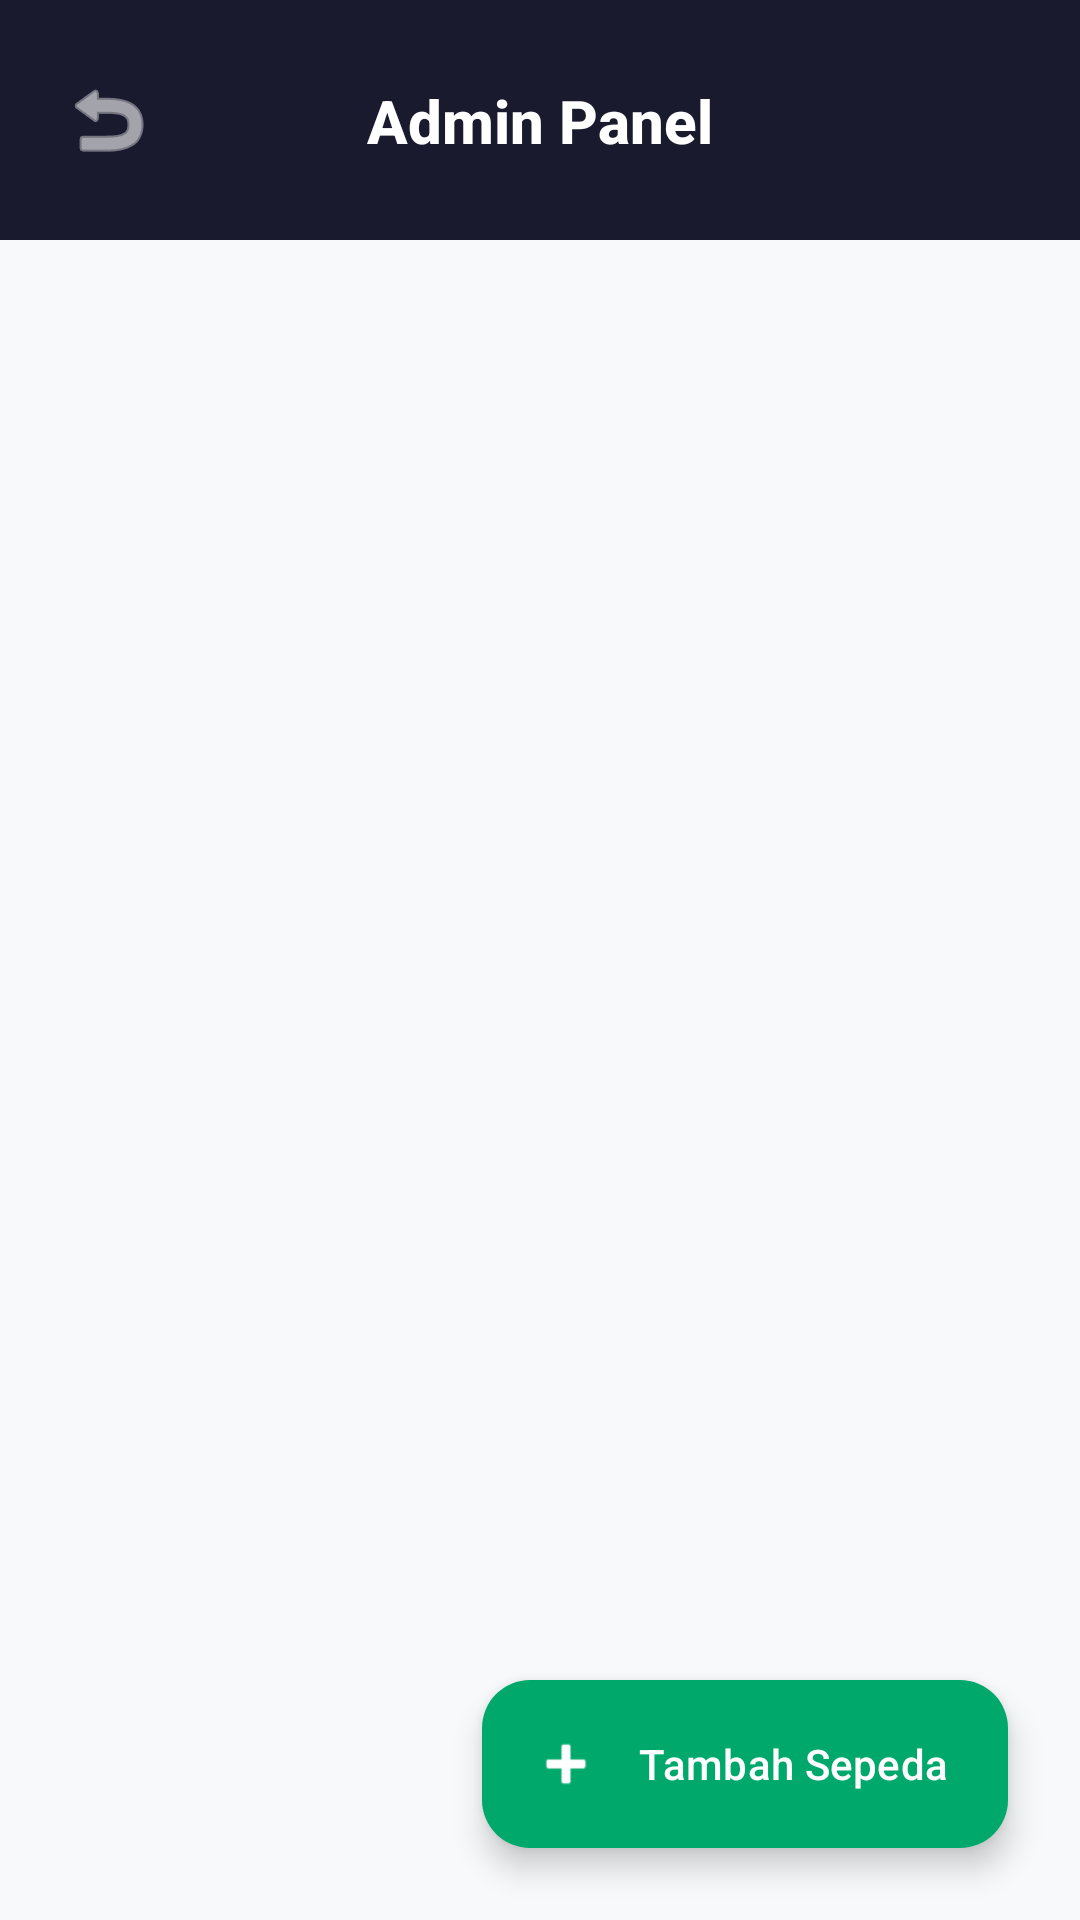

Named icons in this screenshot (1080x1920) and their centers, (x=x, y=y):
revert: (x=109, y=120)
